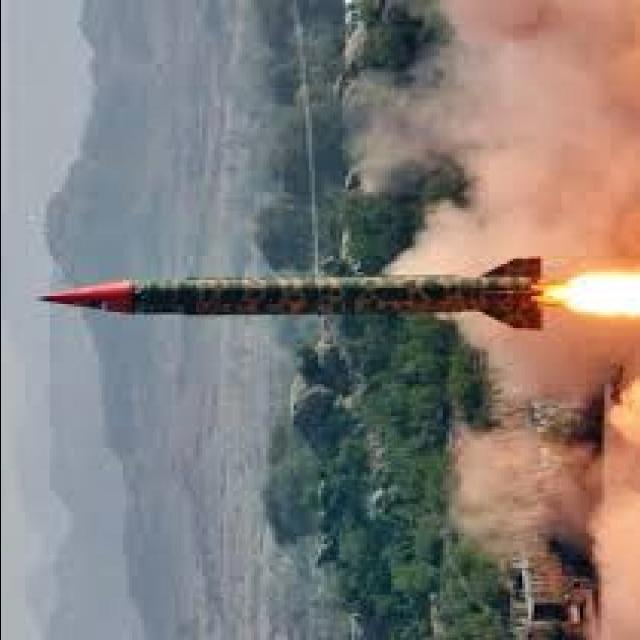Missile: (36, 250, 557, 336)
